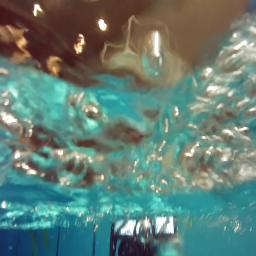front: (109, 215, 180, 256)
